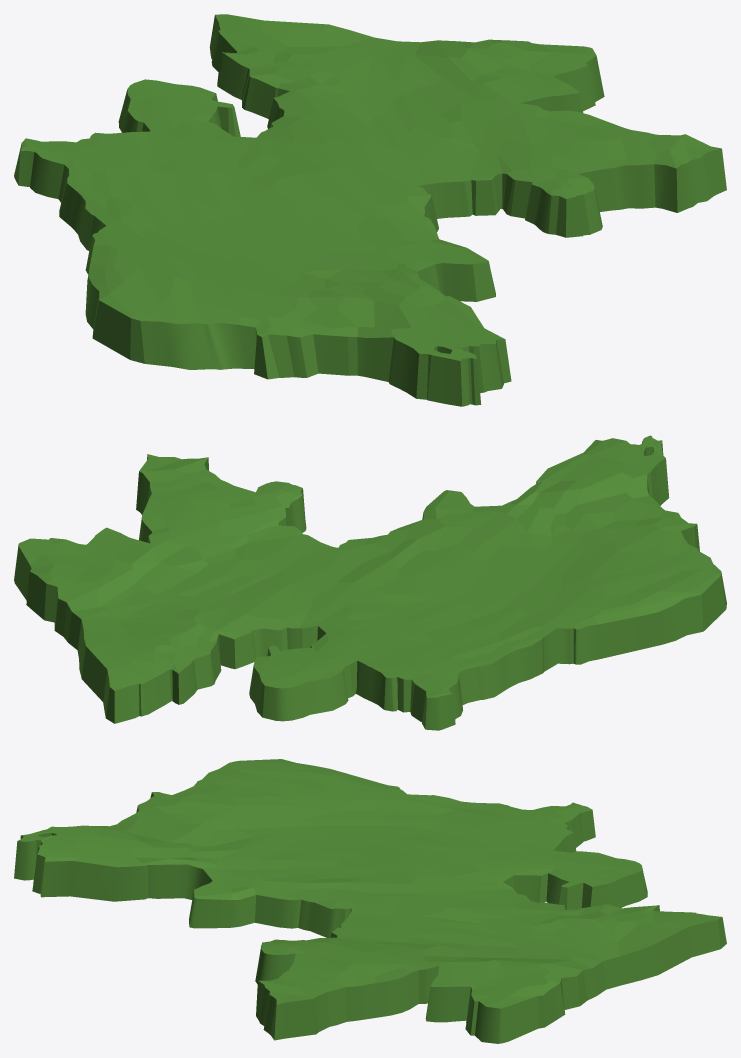
Rendered from grass_layer_cut_block_A_B.fbx.
3 views of the same model, one above another, from view 1: azimuth 30°, elevation 25°; view 2: azimuth 150°, elevation 25°; view 3: azimuth 270°, elevation 25° (orthographic). The views are drawn at different scales.
Parts seen in each view (by area): view 1: grass_layer_cut_block_A_B; view 2: grass_layer_cut_block_A_B; view 3: grass_layer_cut_block_A_B.
Part boxes in pixels (x1,y1,x2,y2): grass_layer_cut_block_A_B: [14, 14, 726, 406]; grass_layer_cut_block_A_B: [14, 435, 726, 730]; grass_layer_cut_block_A_B: [14, 759, 726, 1043].
Bounding box in the file's own units: 3204 × 219 × 3786.
